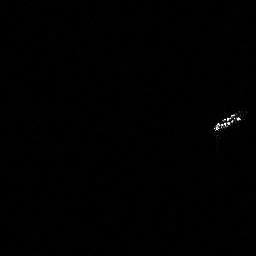ship: (212, 112, 242, 131)
